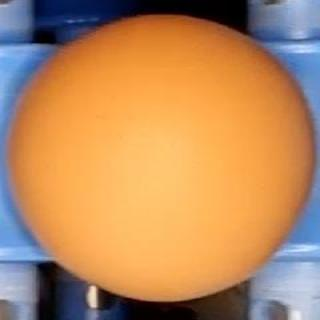Telur: (8, 14, 317, 308)
